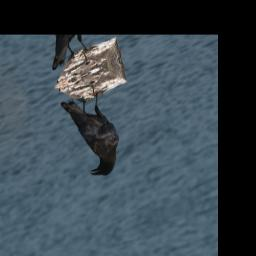Crow: (59, 82, 126, 187)
